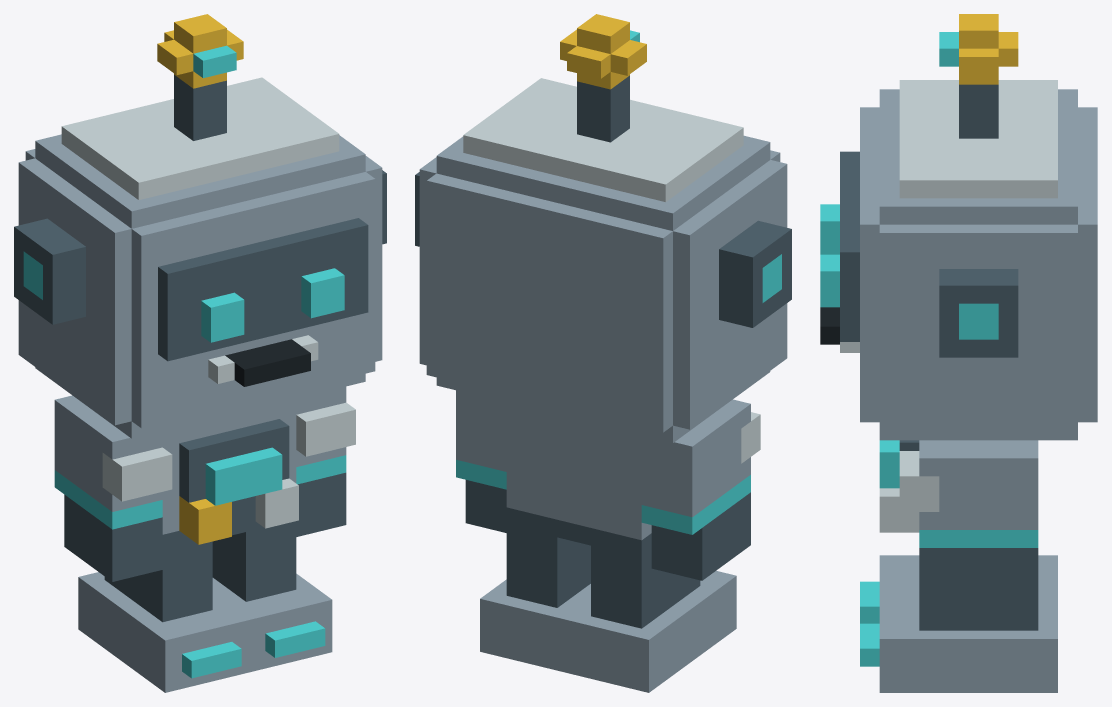
File: robot.glb
3 views of the same model, side by side, from view 1: azimuth 30°, elevation 25°; view 2: azimuth 150°, elevation 25°; view 3: azimuth 270°, elevation 25° (orthographic). The views are drawn at different scales.
Visible parts, largest first — view 1: head, leg_left, torso, arm_left, leg_right, arm_right; view 2: head, leg_left, torso, arm_left, leg_right, arm_right; view 3: head, arm_right, leg_right, leg_left, torso.
Boxes of the visible parts, box(x1,y1,x2,y2) form: head: box(14, 14, 386, 438); leg_left: box(78, 541, 248, 692); torso: box(162, 399, 298, 551); arm_left: box(54, 395, 172, 581); leg_right: box(212, 521, 332, 672); arm_right: box(296, 386, 355, 536); head: box(415, 14, 791, 442); leg_left: box(564, 545, 736, 692); torso: box(506, 403, 651, 557); arm_left: box(641, 399, 760, 580); leg_right: box(480, 525, 590, 671); arm_right: box(456, 390, 506, 532); head: box(820, 14, 1097, 440); arm_right: box(899, 440, 1038, 601); leg_right: box(860, 559, 1057, 692); leg_left: box(860, 555, 1057, 623); torso: box(879, 440, 1038, 558).
Size of the model in its own units: 1 by 1.75 by 0.7.
Materials: 1 (1 with a texture image).
